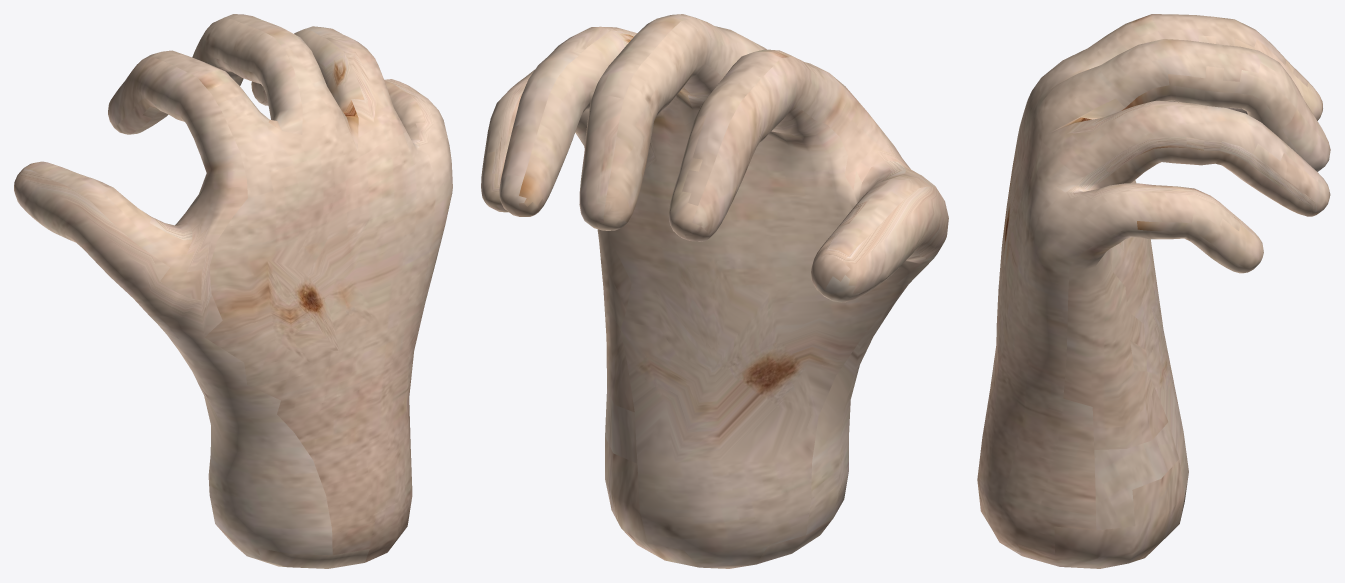
File: hand13.obj
The picture shows the model from 3 angles, left to right: view 1: azimuth 30°, elevation 25°; view 2: azimuth 150°, elevation 25°; view 3: azimuth 270°, elevation 25°; orthographic projection. The views are drawn at different scales.
Parts seen in each view (by area): view 1: Cube.001; view 2: Cube.001; view 3: Cube.001.
Part boxes in pixels (<box>): Cube.001: <box>14,14,452,568</box>; Cube.001: <box>481,14,948,568</box>; Cube.001: <box>977,14,1330,568</box>.
Bounding box in the file's own units: 3.63 × 4.69 × 2.94.
